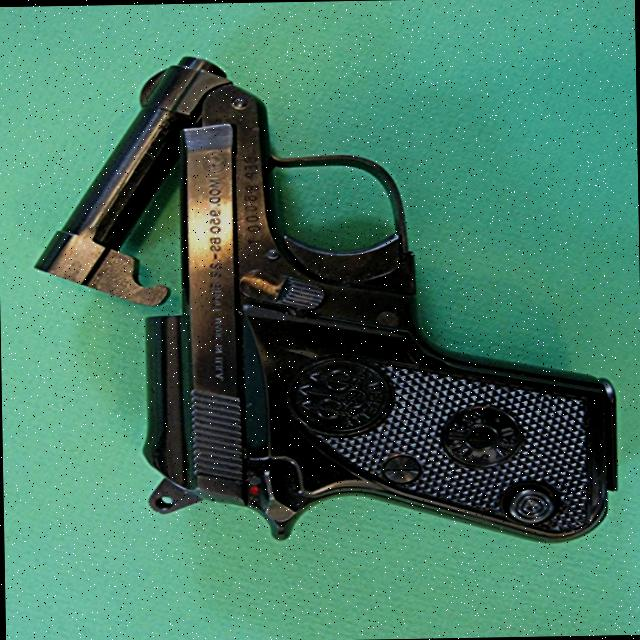pistol: (27, 49, 620, 552)
